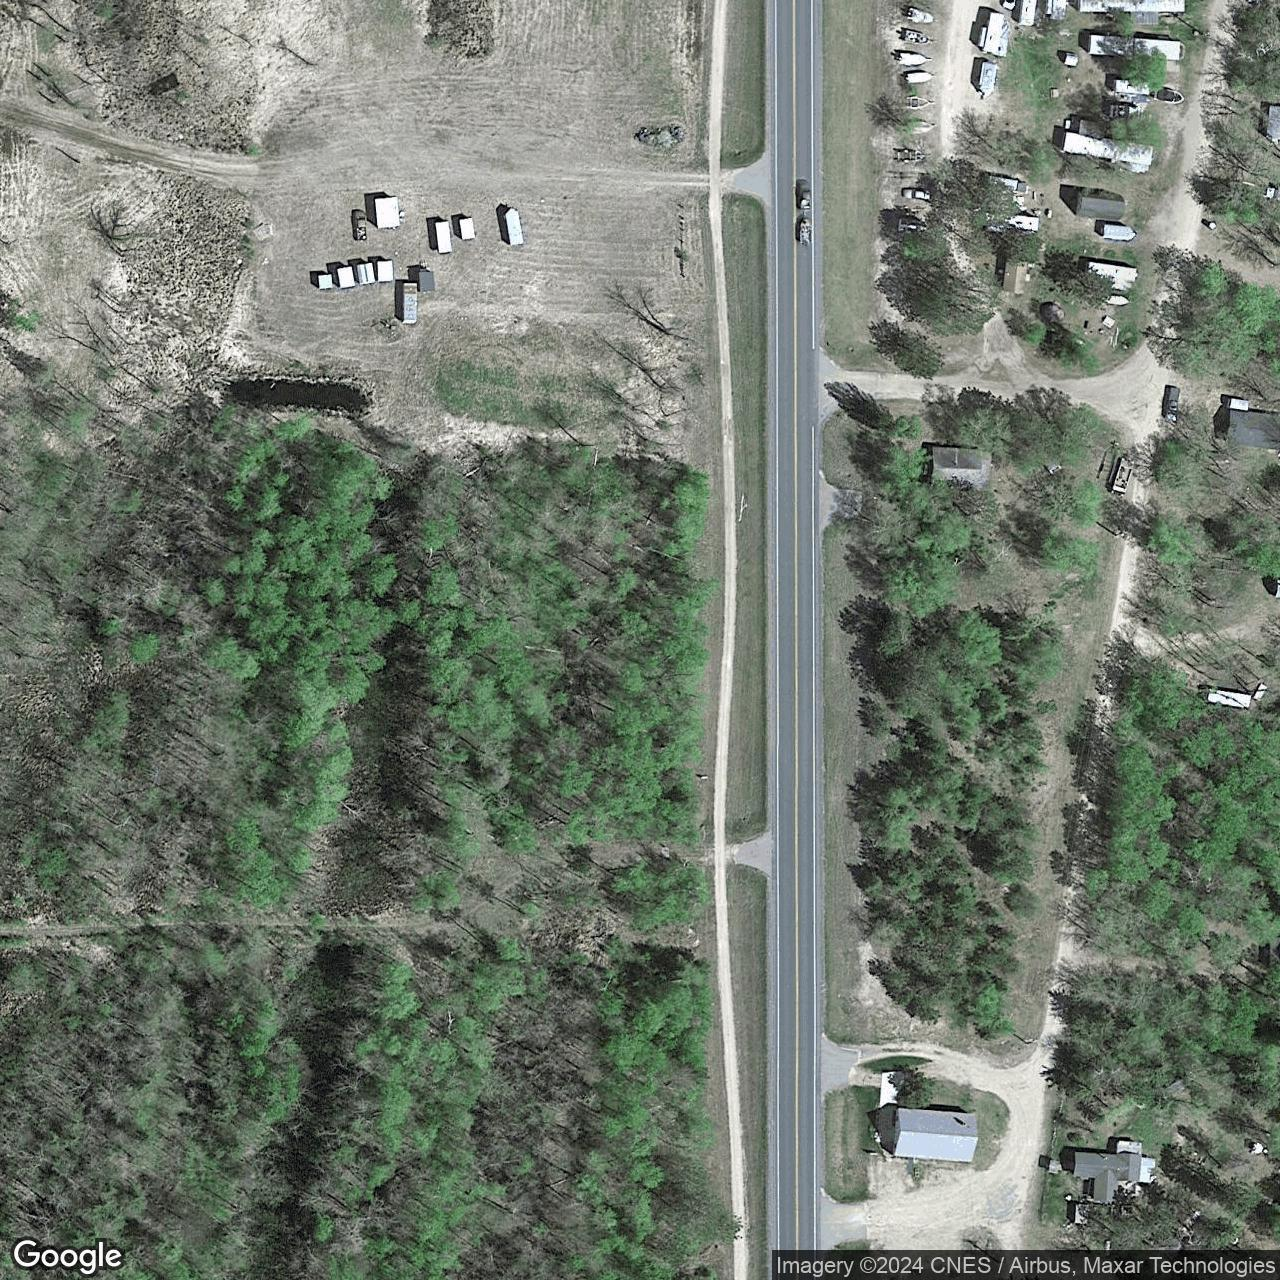Garage: (1075, 190, 1124, 219), (1002, 258, 1028, 294)
House: (893, 1107, 979, 1163), (1073, 1151, 1142, 1203), (1227, 408, 1280, 449), (931, 445, 983, 486), (1080, 0, 1186, 13), (1266, 105, 1280, 143), (1020, 0, 1037, 26), (1046, 0, 1067, 21)
Trailer: (1062, 131, 1155, 166), (1088, 34, 1182, 61), (1084, 261, 1137, 291), (978, 13, 1010, 56), (985, 212, 1040, 232), (1207, 687, 1252, 709), (1114, 80, 1150, 95)
